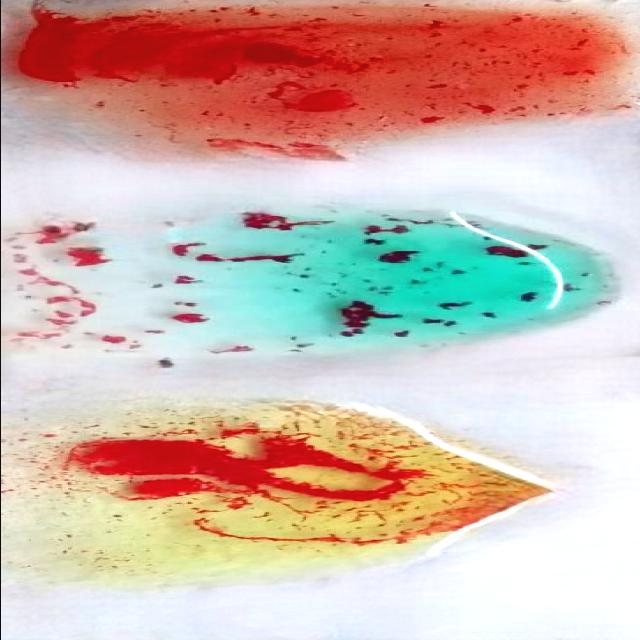A: (0, 214, 632, 362)
B: (0, 402, 569, 574)
D: (0, 0, 632, 166)
